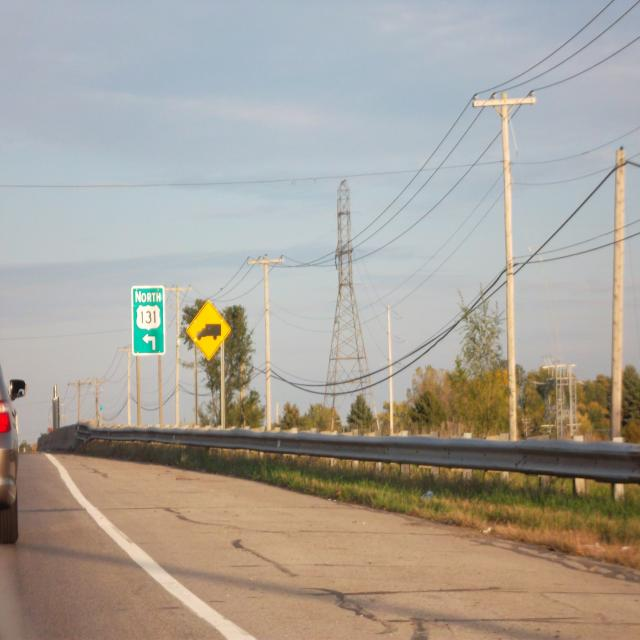warning: (187, 301, 230, 360)
